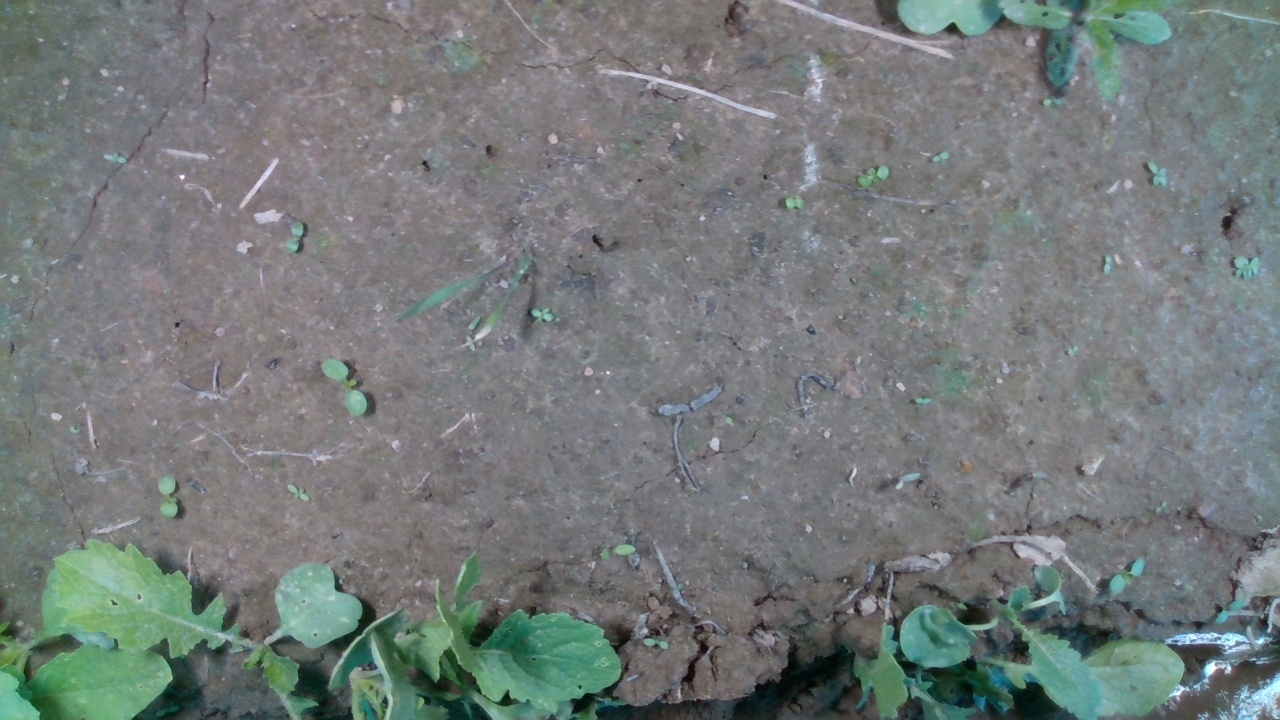weed: (318, 359, 368, 420), (1107, 554, 1147, 597), (154, 474, 181, 521), (1227, 252, 1262, 282), (855, 162, 891, 189), (282, 219, 304, 256), (598, 542, 638, 561), (1145, 158, 1169, 189), (781, 192, 809, 212), (284, 482, 312, 502), (528, 305, 555, 324), (641, 637, 669, 652), (928, 148, 950, 166)
